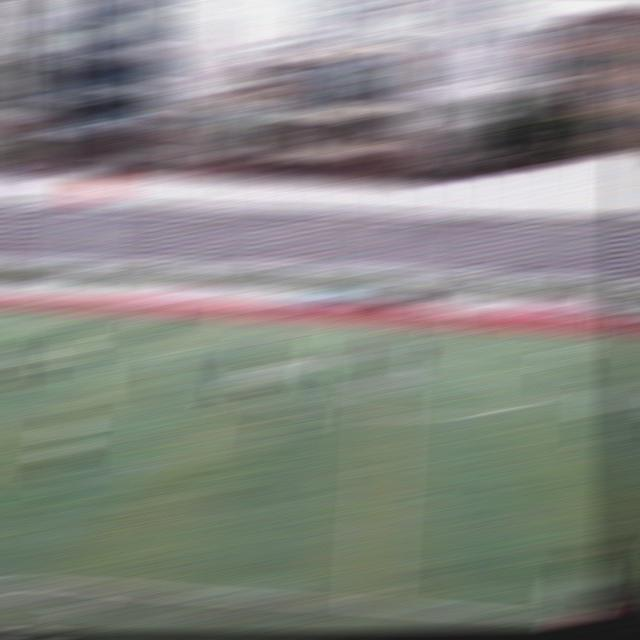halfcircle_bottom: (369, 411, 400, 421)
halfcircle_top: (374, 358, 401, 366)
